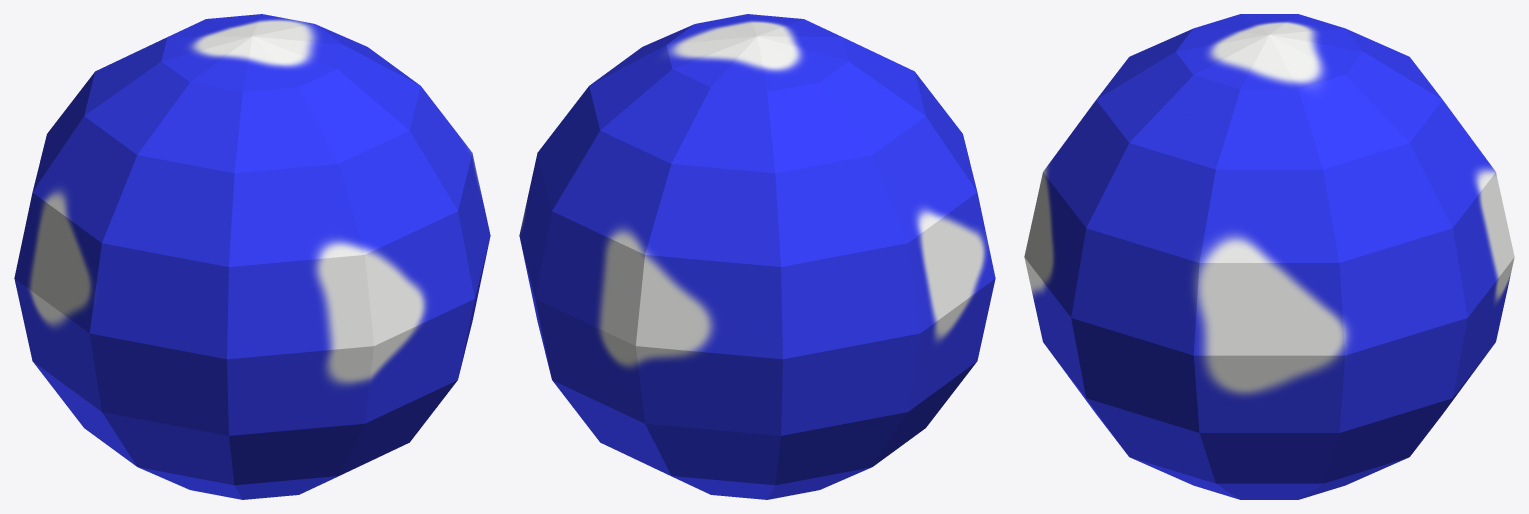
The model's file is play.fbx.
3 renders of one model, left to right at view 1: azimuth 30°, elevation 25°; view 2: azimuth 150°, elevation 25°; view 3: azimuth 270°, elevation 25°, orthographic.
Visible parts, largest first — view 1: Sphere 8; view 2: Sphere 8; view 3: Sphere 8.
Part boxes in pixels (x1,y1,x2,y2): Sphere 8: (14, 14, 490, 499); Sphere 8: (519, 14, 995, 499); Sphere 8: (1024, 14, 1514, 499).
Bounding box in the file's own units: 9.51 × 10 × 10.
